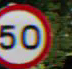Speed limit: (1, 4, 54, 66)
